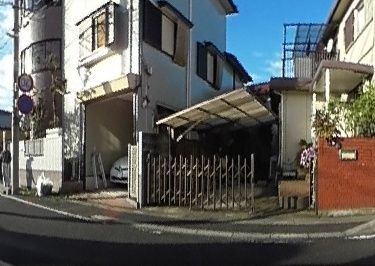person: (2, 142, 10, 189)
